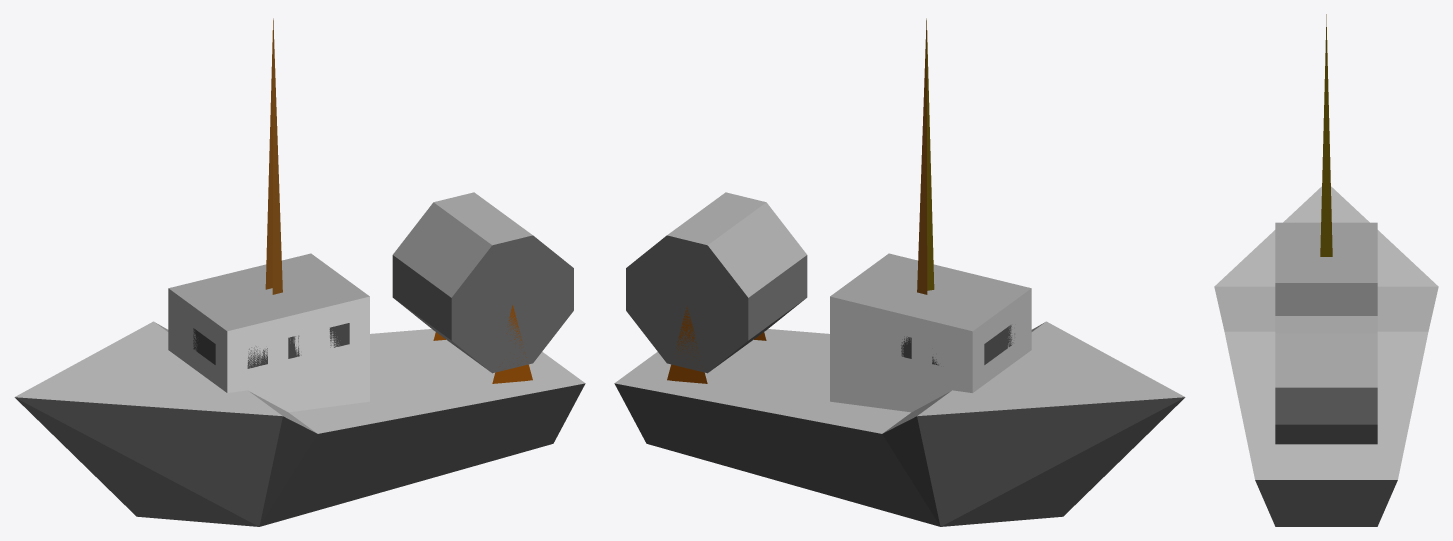
The model's file is boat.obj.
3 renders of one model, left to right at view 1: azimuth 30°, elevation 25°; view 2: azimuth 150°, elevation 25°; view 3: azimuth 270°, elevation 25°, orthographic. The views are drawn at different scales.
Bounding box in the file's own units: 520 × 440 × 220.
